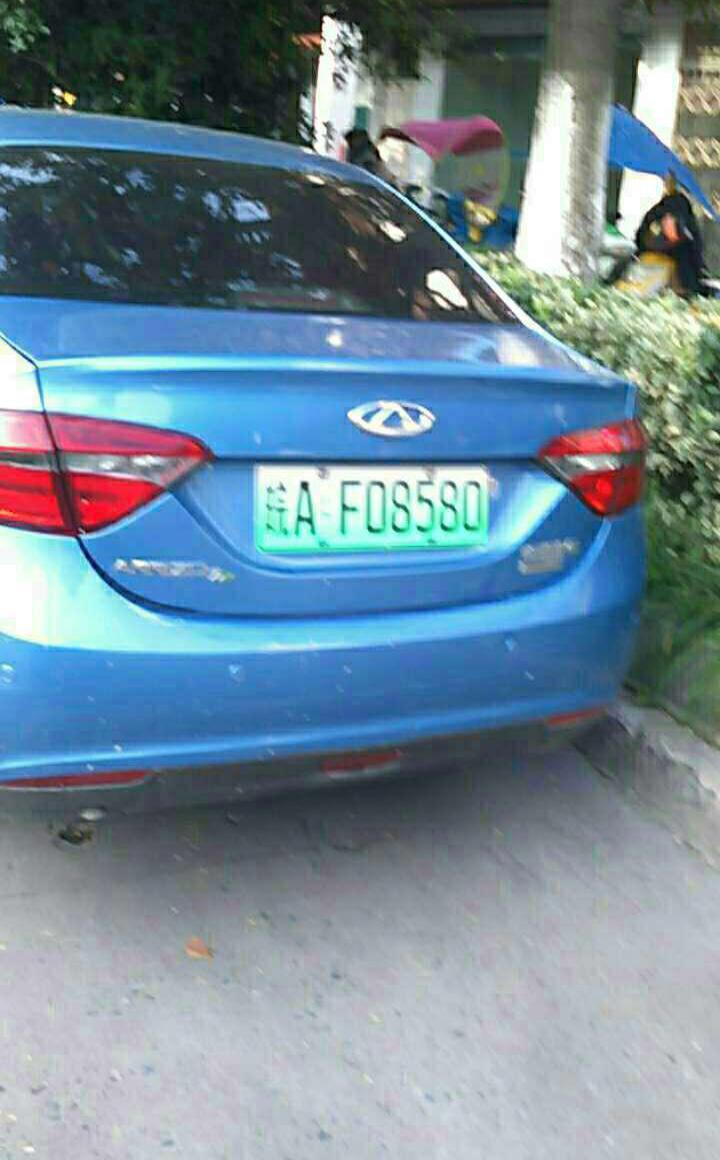car_id: (261, 470, 491, 551)
